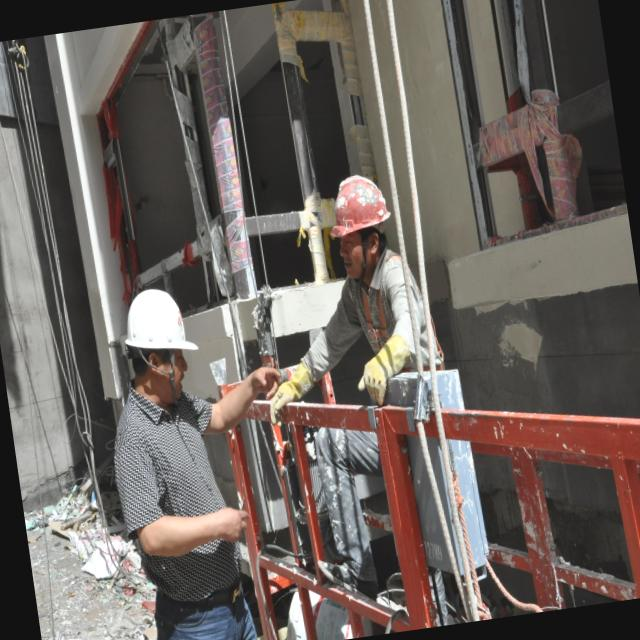helmet: (114, 280, 202, 382), (320, 167, 398, 258)
